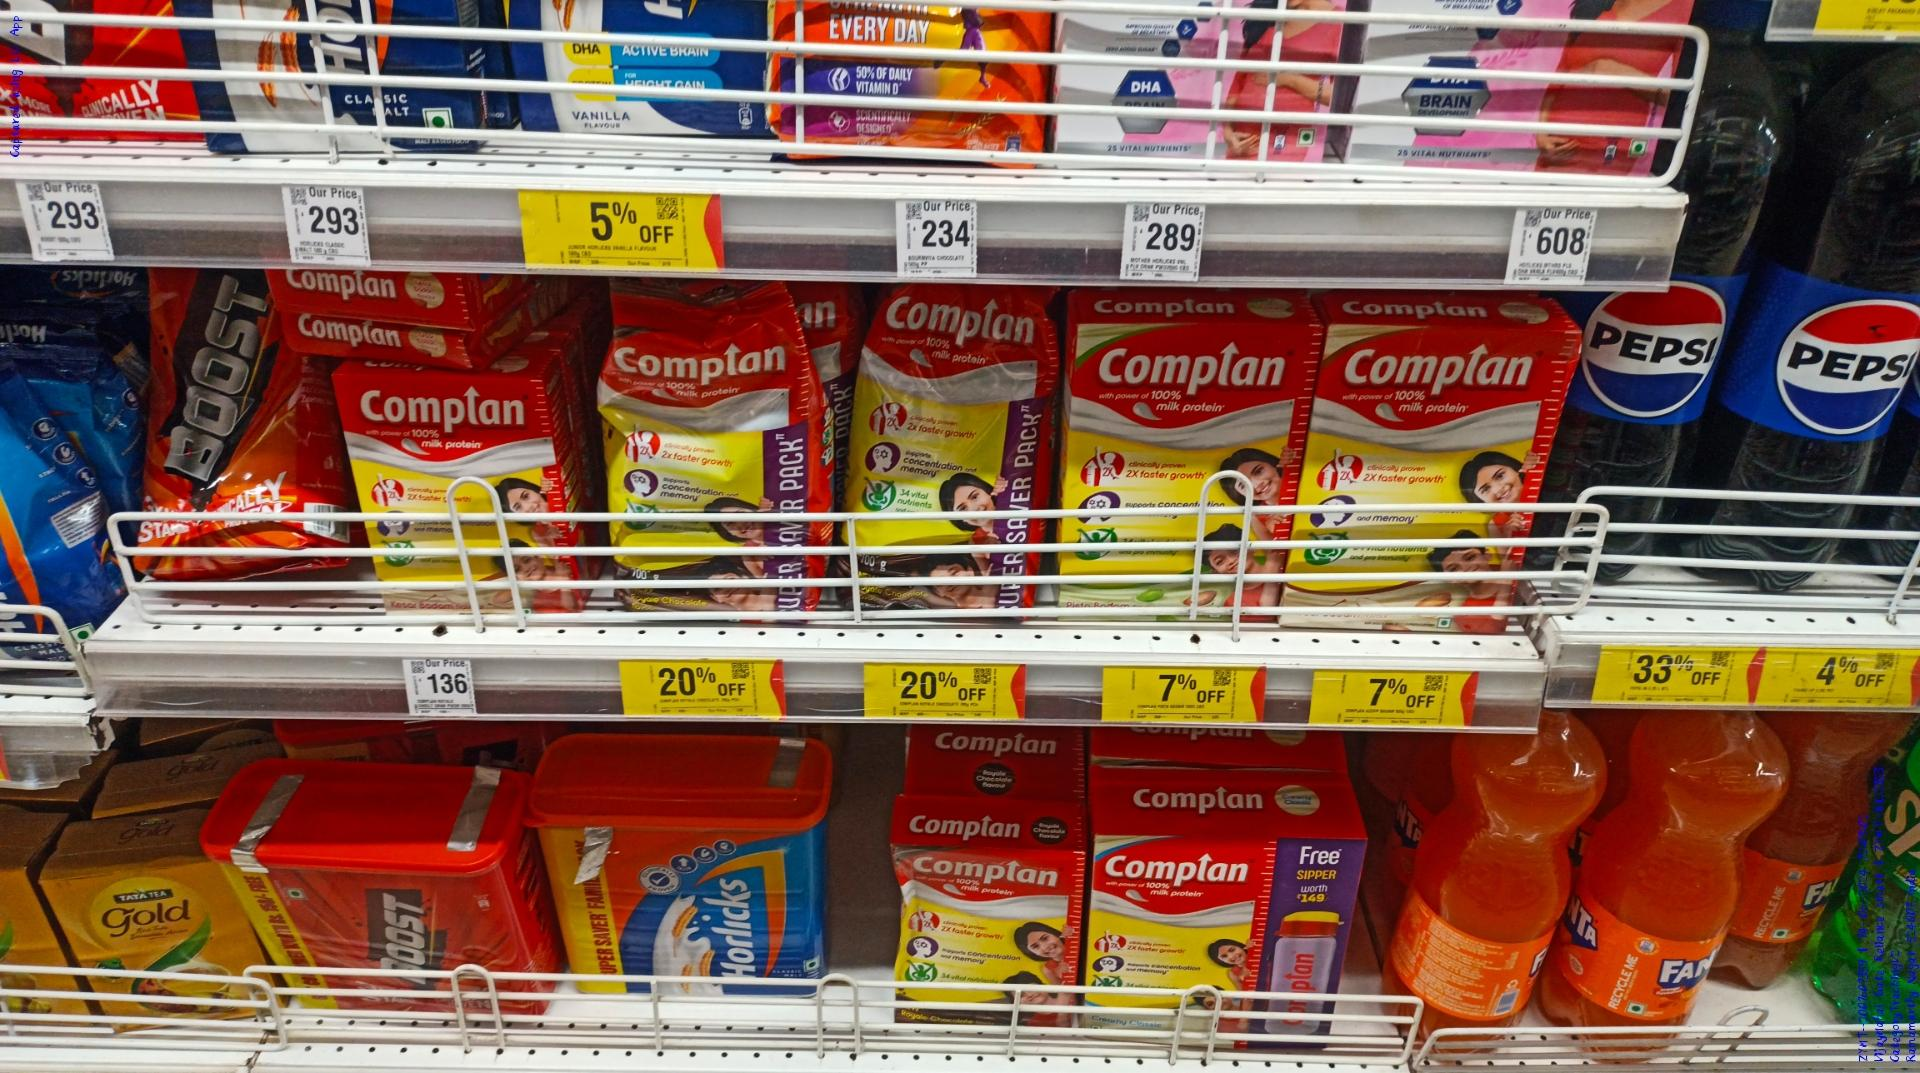COMPLAN_CHOCOLATE_500_GMS_PACK: (893, 834, 1071, 1028)
COMPLAN_CREAMY_CLASSIC_500_G_PACK: (1085, 825, 1332, 1039)
COMPLAN_KESAR_BADAM_500_GMS_PACK: (1309, 318, 1560, 633), (357, 382, 556, 606)
COMPLAN_PISTA_BADAM_500_GMS_PACK: (1069, 322, 1288, 629)
COMPLAN_RC_POUCH_700_GMS_12: (601, 286, 823, 613), (840, 285, 1047, 621)
HORLICK_MALT_1_KG_CONTAINER: (563, 790, 833, 1007)
